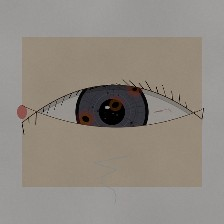foreign_body_visible: (96, 90, 135, 120)
